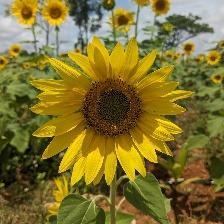sunflower: (30, 35, 198, 188)
